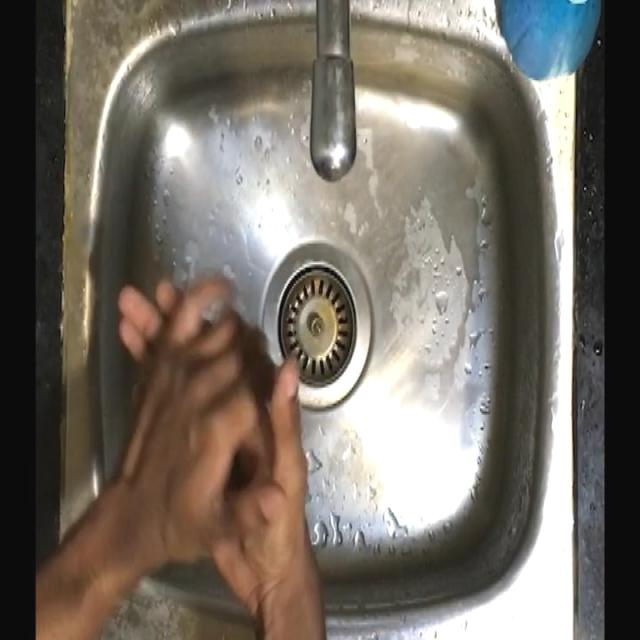step_5: (112, 268, 313, 598)
